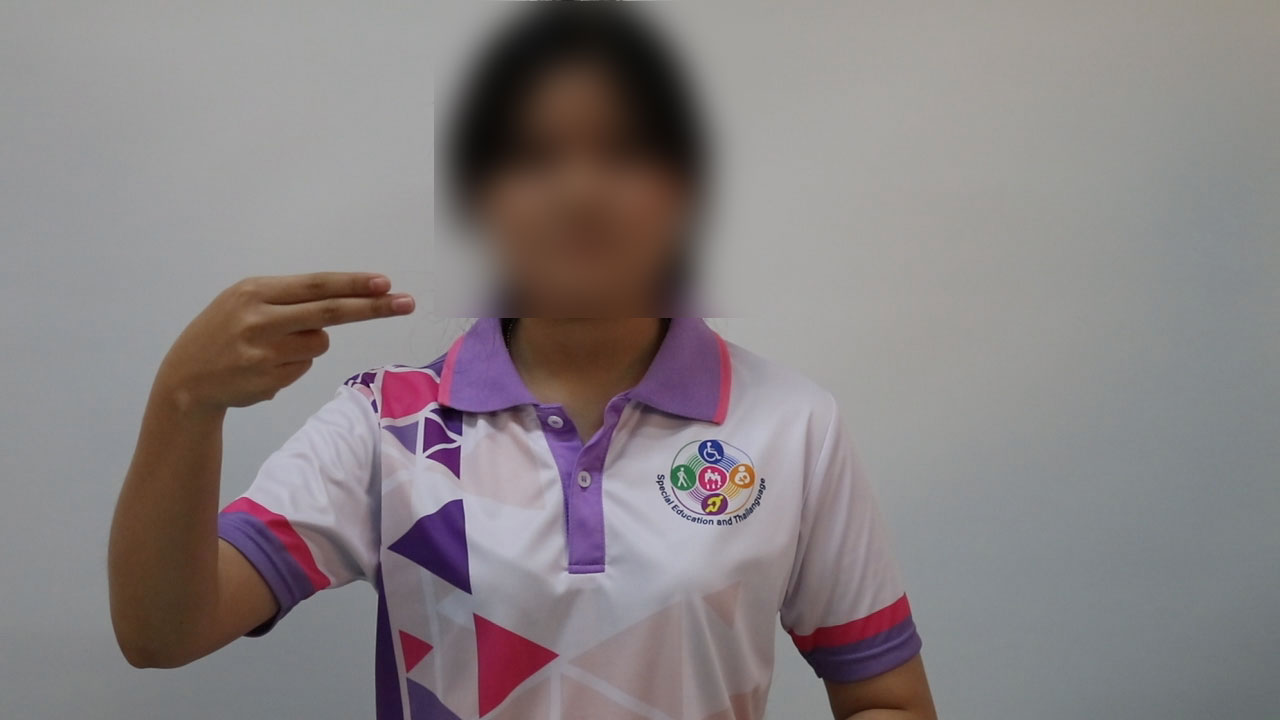hor: (147, 258, 431, 415)
